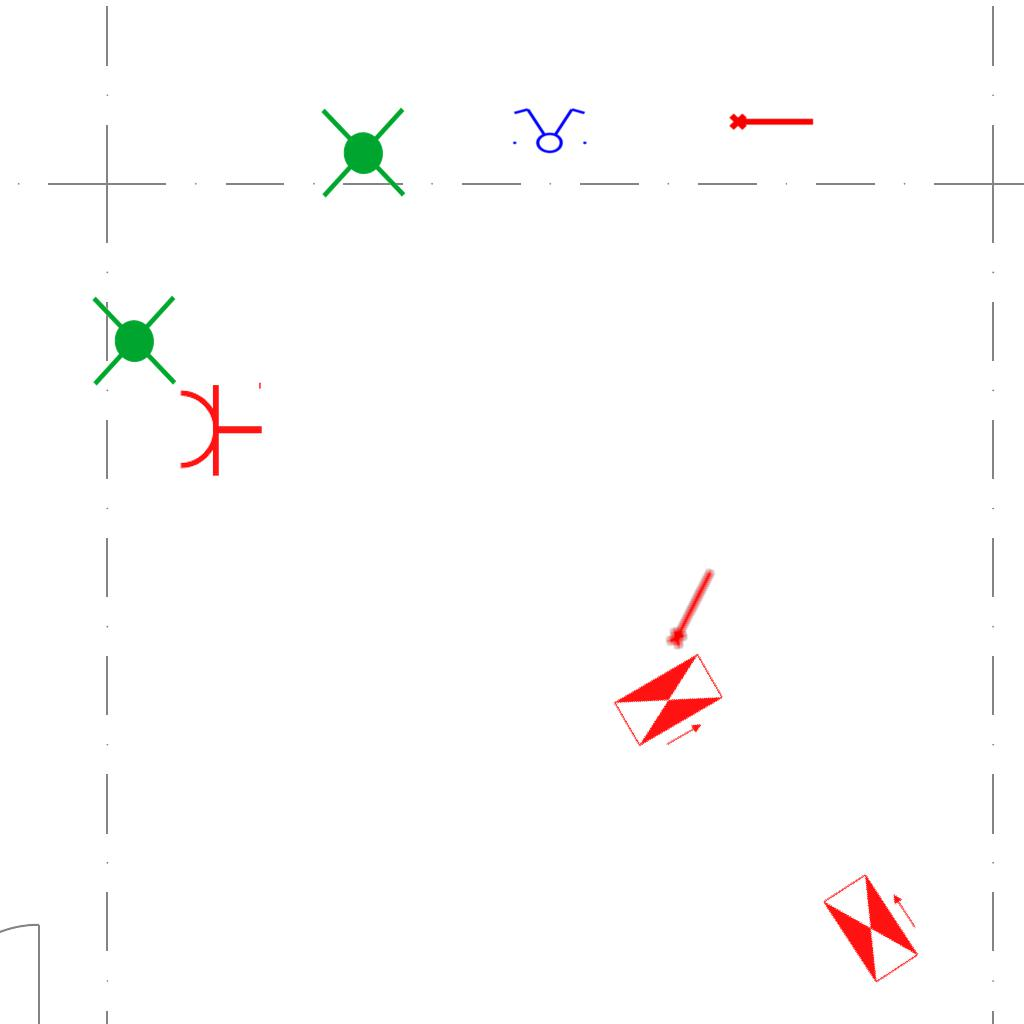ASR_Ansaugoeffnung: (660, 563, 722, 652), (728, 109, 816, 132)
Fluchtwegpiktogramm: (818, 860, 937, 988), (609, 649, 736, 765)
Notlichtbaustein_in_Allgemeinbeleuchtug_engebaut_Einbau_(1UG_und_2UG_Aufbauvaria: (84, 291, 187, 391), (313, 103, 416, 203)
Schukosteckdose_einfach: (177, 378, 264, 478)
Serienschalter: (507, 106, 591, 154)
